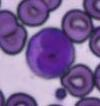M: (25, 28, 75, 78)
